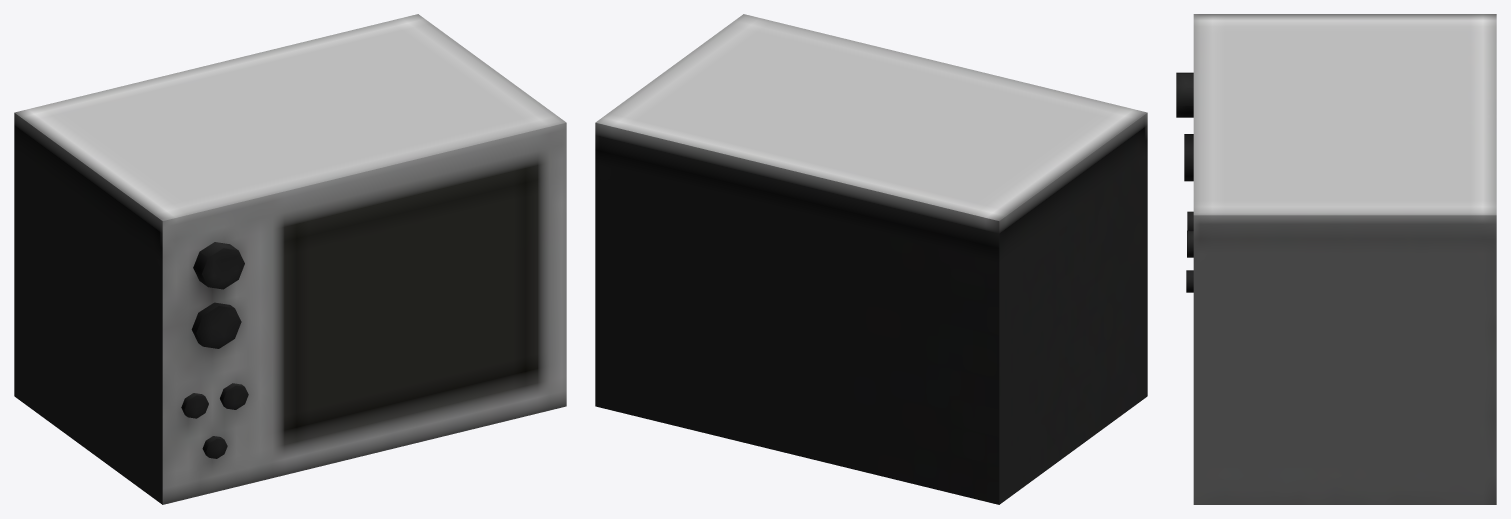
File: Tx_props_medical_microwave.fbx
3 renders of one model, left to right at view 1: azimuth 30°, elevation 25°; view 2: azimuth 150°, elevation 25°; view 3: azimuth 270°, elevation 25°, orthographic. The views are drawn at different scales.
Visible parts, largest first — view 1: Tx_props_medical_microwave; view 2: Tx_props_medical_microwave; view 3: Tx_props_medical_microwave.
Part boxes in pixels (x1=…): Tx_props_medical_microwave: x1=14, y1=14, x2=566, y2=504; Tx_props_medical_microwave: x1=595, y1=14, x2=1147, y2=504; Tx_props_medical_microwave: x1=1176, y1=14, x2=1496, y2=504.
Size of the model in its own units: 3.72 by 2.5 by 2.5.
